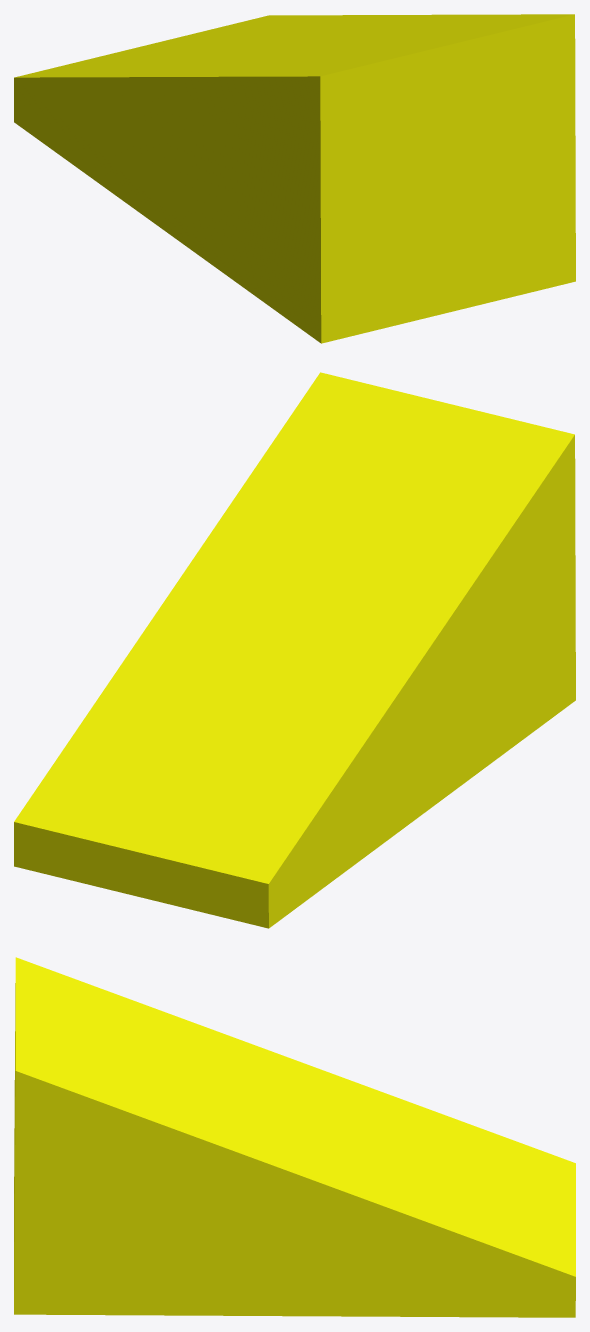
File: Pineapple.fbx
3 renders of one model, top to bottom at view 1: azimuth 30°, elevation 25°; view 2: azimuth 150°, elevation 25°; view 3: azimuth 270°, elevation 25°, orthographic. The views are drawn at different scales.
Parts seen in each view (by area): view 1: Pineapple_Topping; view 2: Pineapple_Topping; view 3: Pineapple_Topping.
Part boxes in pixels (x1,y1,x2,y2): Pineapple_Topping: (14,14,575,343); Pineapple_Topping: (14,372,575,928); Pineapple_Topping: (14,957,575,1317).
Size of the model in its own units: 5.97 by 6.05 by 12.47.
